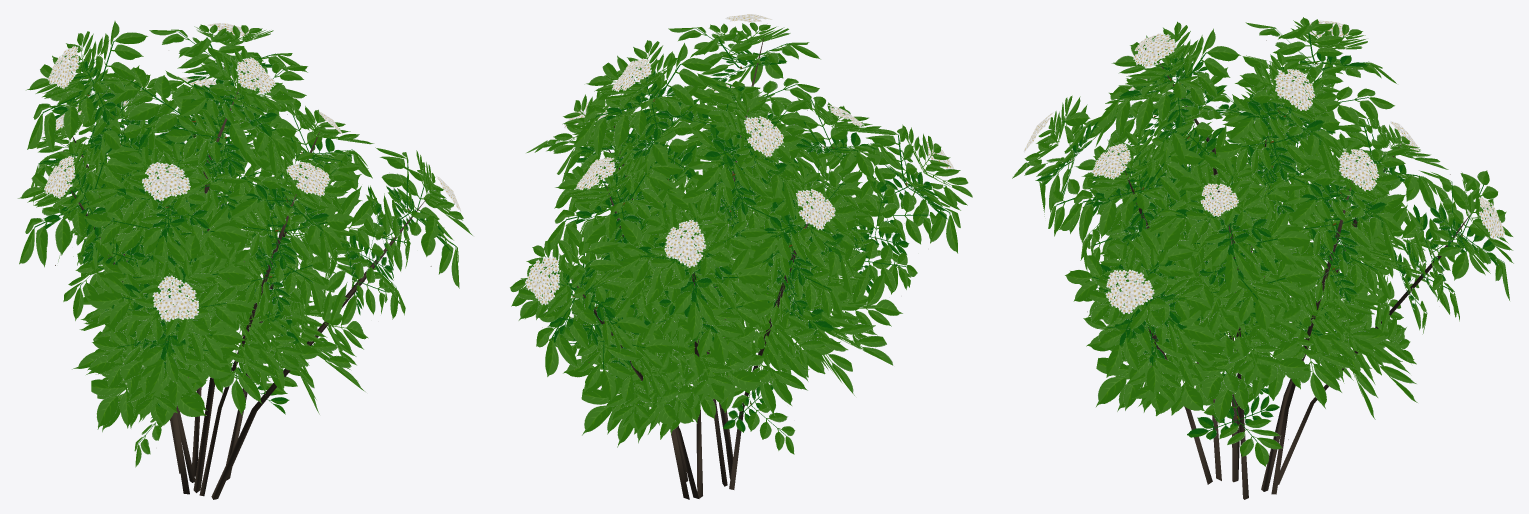
The model's file is PT_Elderberry_01.fbx.
The picture shows the model from 3 angles, left to right: view 1: azimuth 30°, elevation 25°; view 2: azimuth 150°, elevation 25°; view 3: azimuth 270°, elevation 25°; orthographic projection.
Visible parts, largest first — view 1: PT_Elderberry_01_LOD0; view 2: PT_Elderberry_01_LOD0; view 3: PT_Elderberry_01_LOD0.
Part boxes in pixels (x1=…): PT_Elderberry_01_LOD0: x1=17, y1=21, x2=472, y2=499; PT_Elderberry_01_LOD0: x1=510, y1=14, x2=972, y2=499; PT_Elderberry_01_LOD0: x1=1012, y1=17, x2=1513, y2=499.
Size of what is drawn, in the model's own units: 298 by 331 by 330.
